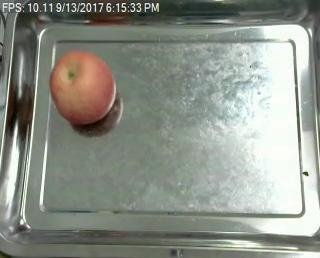apple: (49, 50, 117, 125)
